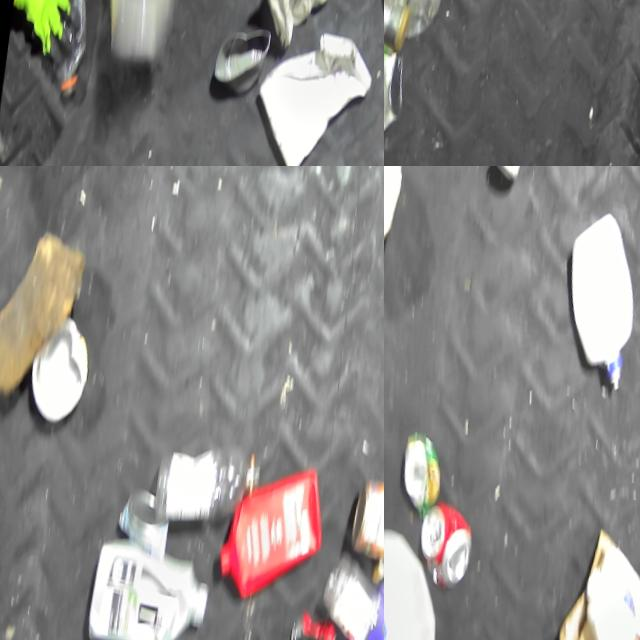can: (413, 499, 476, 593), (209, 20, 271, 99), (397, 431, 447, 512), (348, 471, 384, 560), (384, 45, 408, 135), (384, 0, 410, 55)
milk_jug: (248, 27, 376, 166), (553, 209, 640, 394), (384, 521, 450, 640)
non_white_jug: (215, 460, 329, 605)
plastic_bottle: (152, 442, 261, 526), (42, 0, 91, 98)
